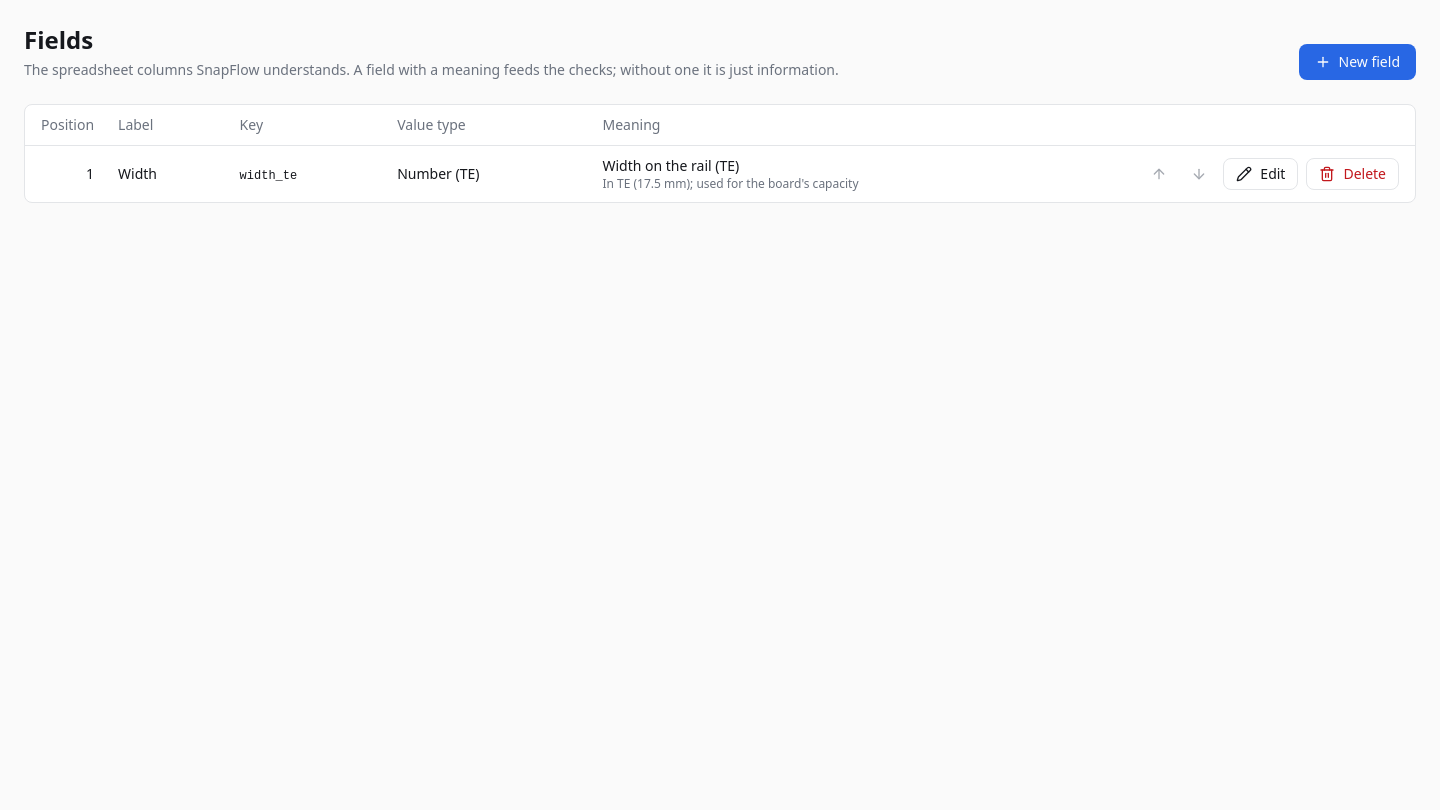
Test case: CatalogFieldsPage › shows why a linked field cannot be deleted
Click the button "Delete": [1353, 174] box top-left (1306, 158), bottom-right (1399, 190)
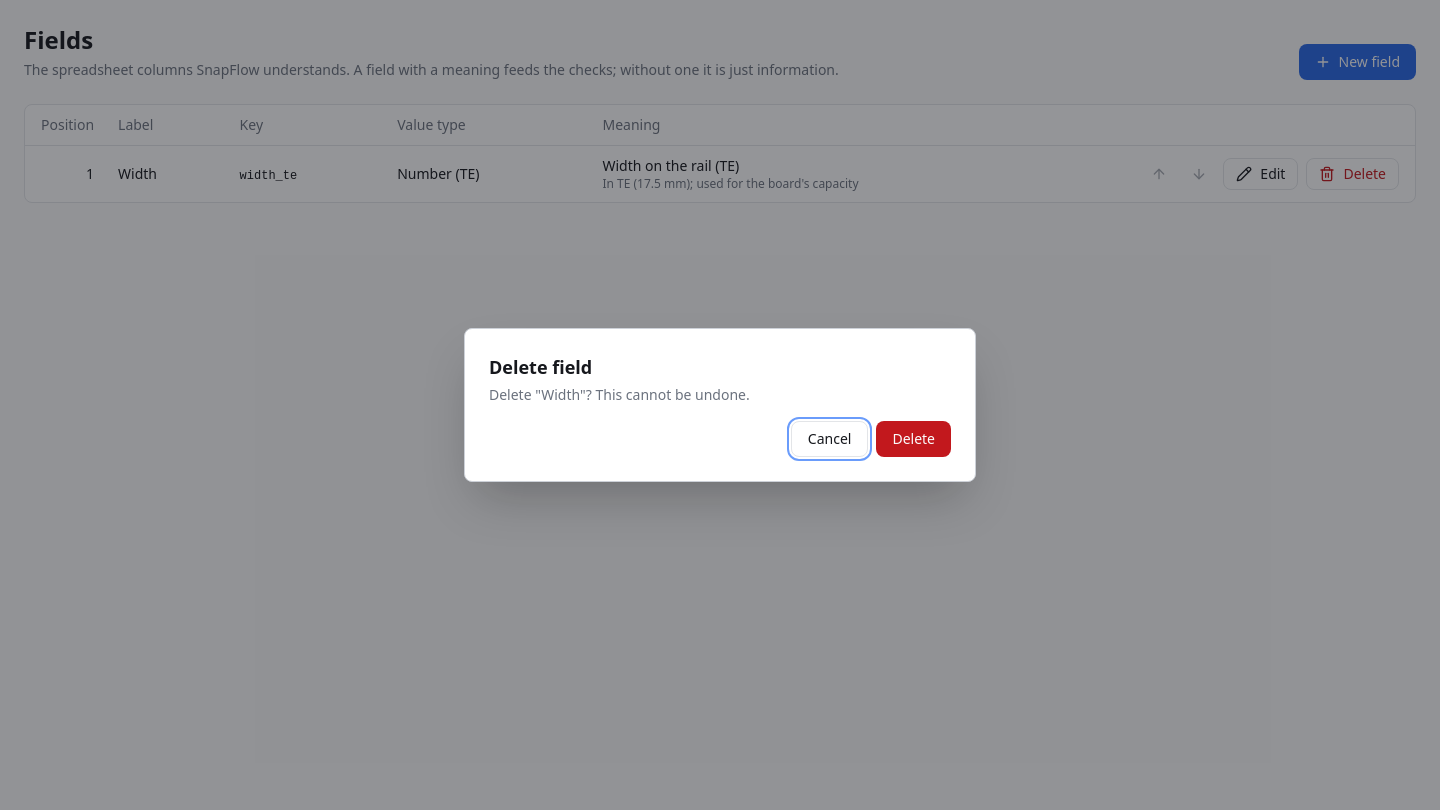
Click the button "Delete": [914, 439] box top-left (876, 421), bottom-right (951, 457)
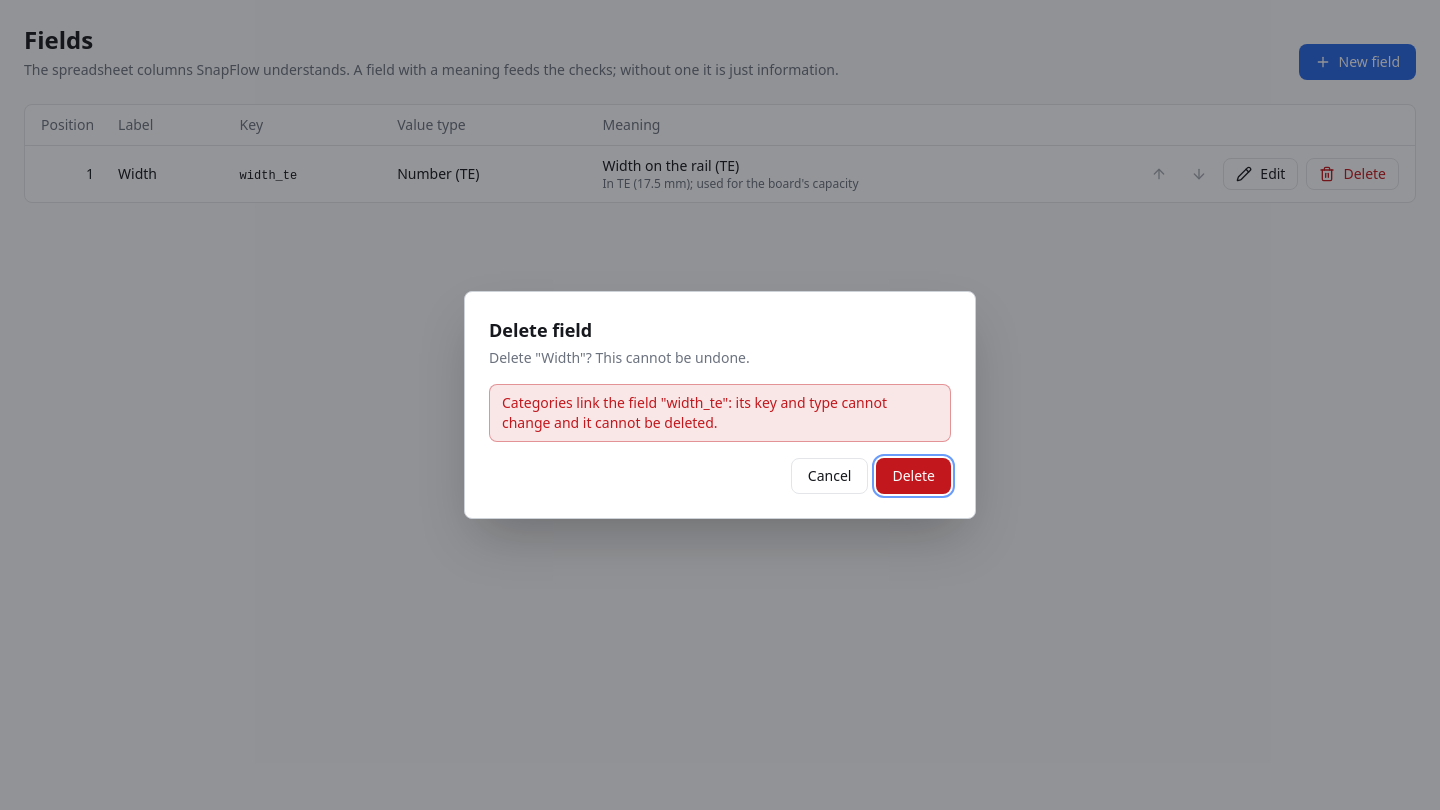
expect the text "Categories link the field \"width_te\"" is shown: met, box top-left (502, 393), bottom-right (887, 432)
